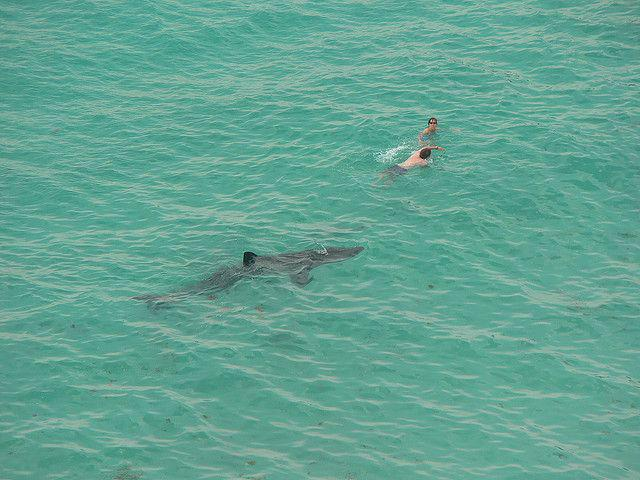swimmer: (399, 142, 443, 177), (416, 116, 438, 141)
